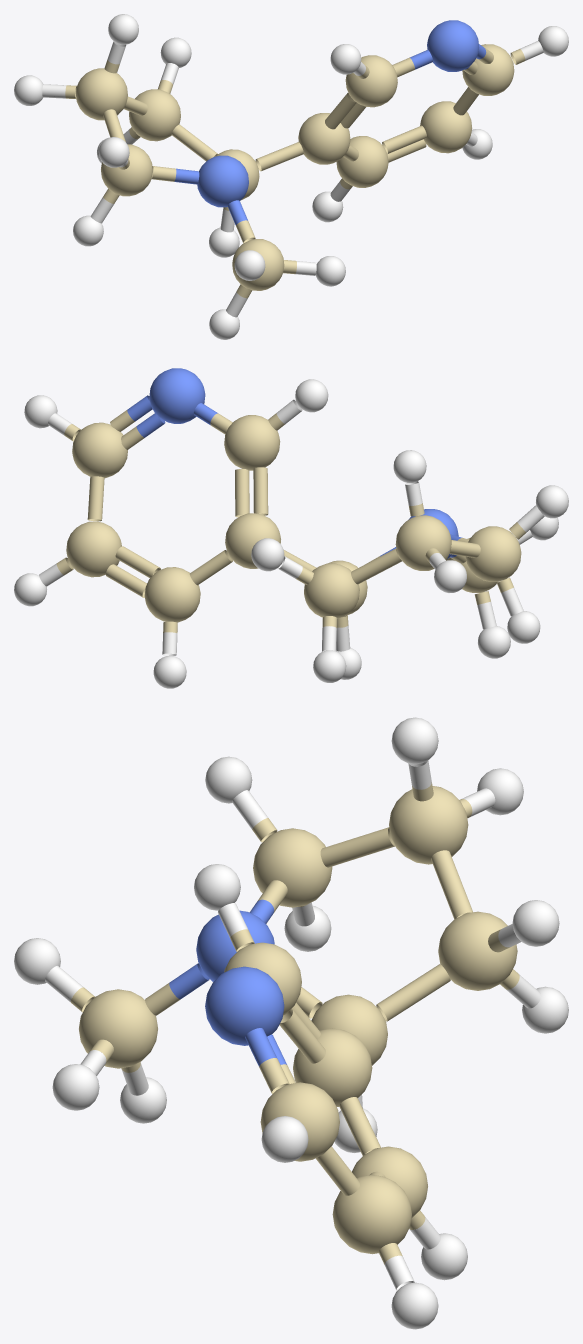
Rendered from Nicotine.glb.
3 views of the same model, one above another, from view 1: azimuth 30°, elevation 25°; view 2: azimuth 150°, elevation 25°; view 3: azimuth 270°, elevation 25° (orthographic). The views are drawn at different scales.
Parts seen in each view (by area): view 1: atoms, sticks, hydrogen; view 2: atoms, sticks, hydrogen; view 3: atoms, sticks, hydrogen.
Boxes of the visible parts, x1,y1,x2,y2 form: atoms: (75,20,514,290); sticks: (42,41,543,317); hydrogen: (14,14,568,339); atoms: (66,368,521,622); sticks: (39,395,544,655); hydrogen: (14,379,568,688); atoms: (79,786,517,1254); sticks: (45,760,541,1290); hydrogen: (14,717,568,1329).
Bounding box in the file's own units: 8.32 × 4.34 × 5.45.
